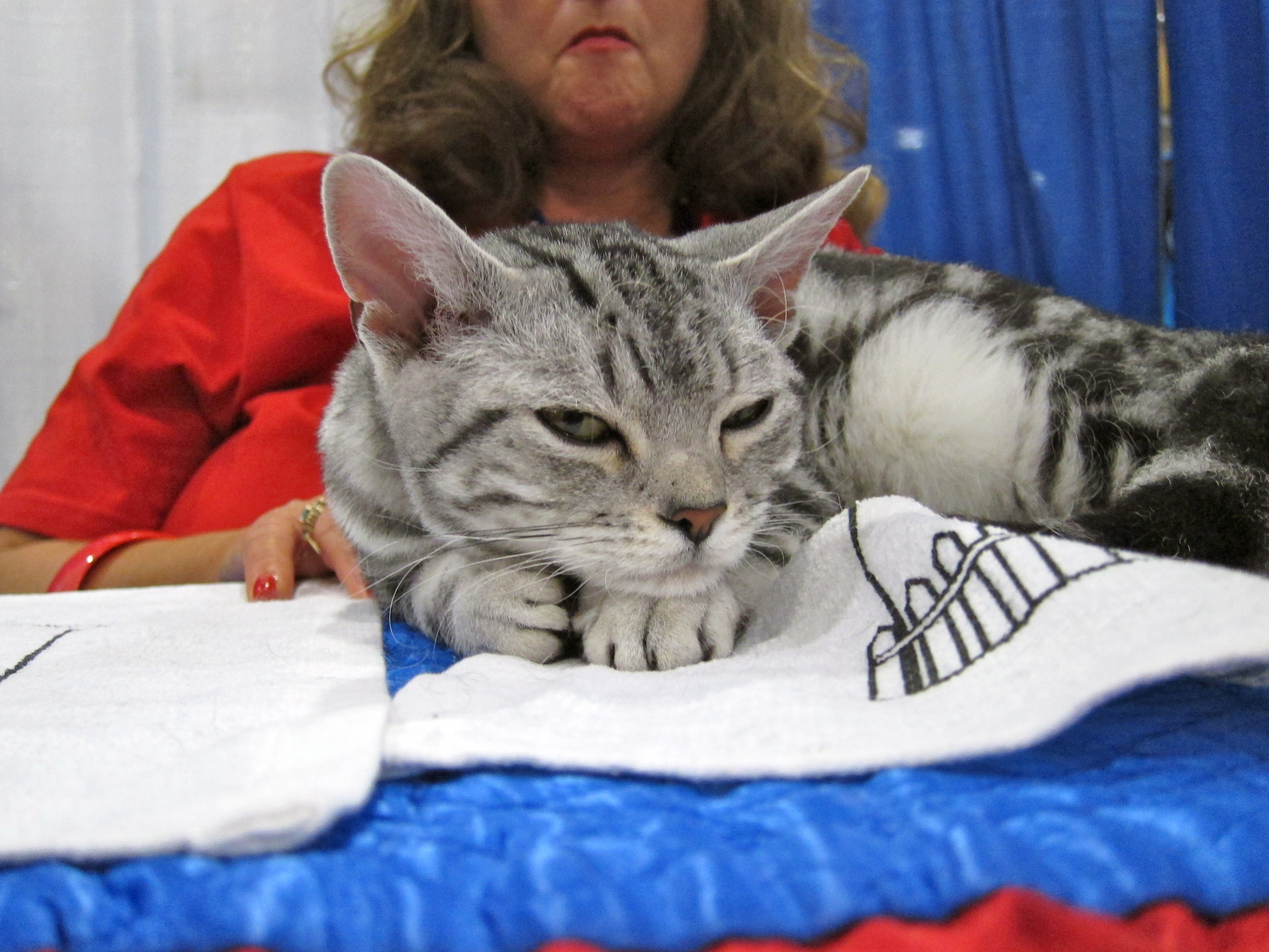cat: (311, 143, 1268, 678)
